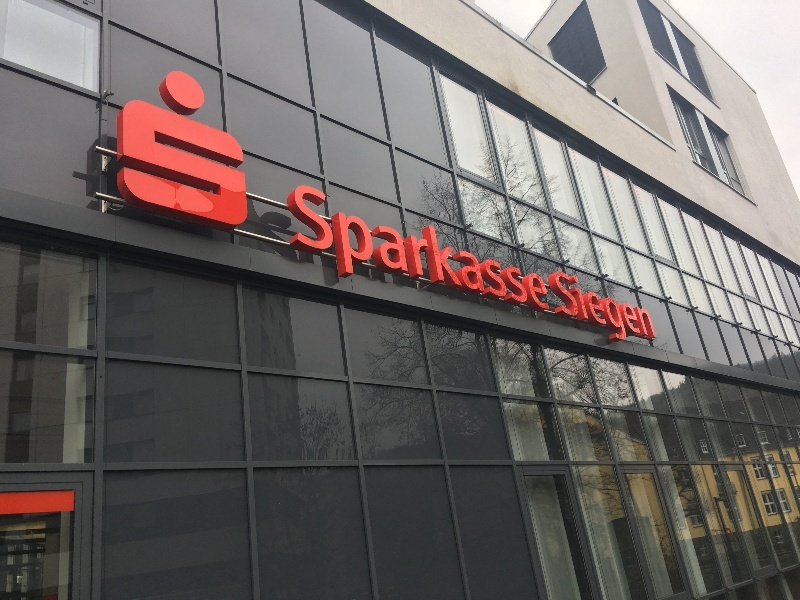text: (129, 51, 144, 230), (145, 51, 160, 230), (161, 51, 176, 230), (177, 51, 192, 230), (193, 51, 208, 230), (209, 51, 224, 230), (225, 51, 240, 230), (289, 178, 304, 353), (305, 178, 320, 353), (321, 178, 336, 353), (337, 178, 352, 353), (353, 178, 368, 353), (369, 178, 384, 353), (385, 178, 400, 353), (401, 178, 416, 353), (417, 178, 432, 353), (433, 178, 448, 353), (449, 178, 464, 353), (465, 178, 480, 353), (481, 178, 496, 353), (497, 178, 512, 353), (513, 178, 528, 353), (529, 178, 544, 353), (545, 178, 560, 353), (561, 178, 576, 353), (577, 178, 592, 353), (593, 178, 608, 353), (609, 178, 624, 353), (625, 178, 640, 353), (641, 178, 656, 353), (119, 51, 128, 230), (241, 51, 249, 230), (287, 178, 288, 353), (657, 178, 658, 353)
